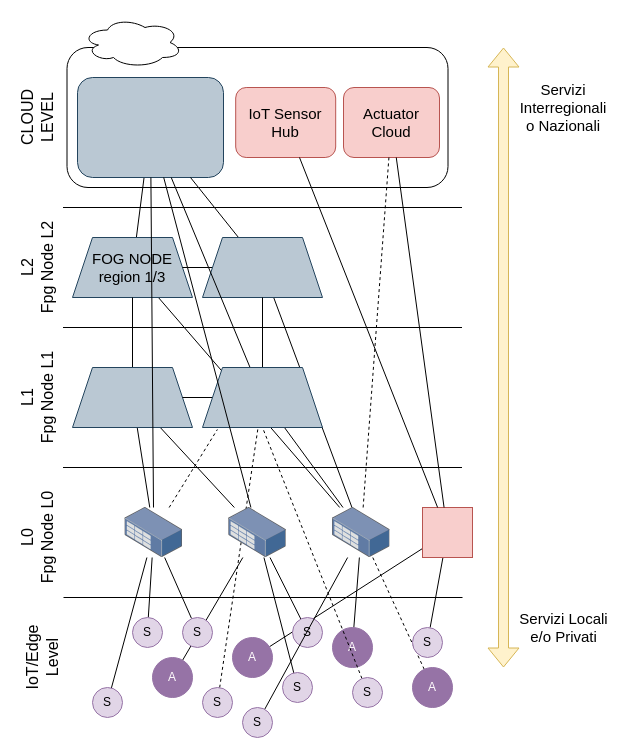
This 631x755 diagram has some shape labels left out. Each missing label, with the centre of its shape:
"CLOUD" belongs at point 132,42.
"CLOUD Services" belongs at point 150,127.
"FOG NODE city 1/5" belongs at point 132,397.
"FOG NODE city 3/5" belongs at point 262,397.
"FOG NODE region 2/3" belongs at point 262,267.
"LOCAL GATEWAY" belongs at point 447,532.
